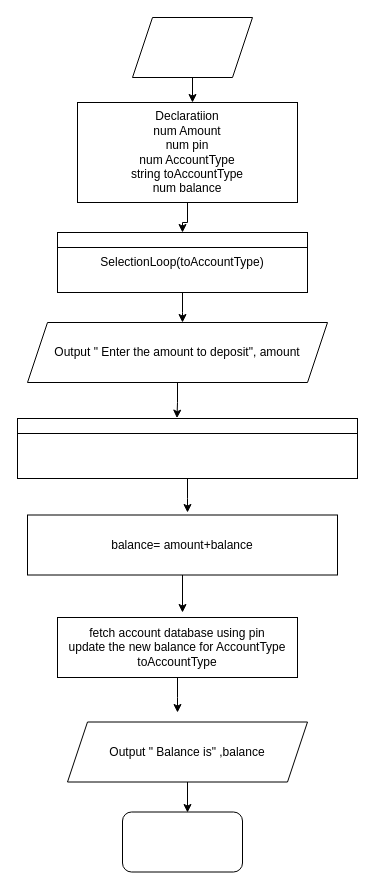
Image size: 376x890. Some labels were removed from this diagram. Each missing label, with the box of its shape:
balance=GetBalance(Pin:Num,toAccountType): (16, 418, 358, 478)
Deposit: (132, 16, 252, 78)
End: (122, 811, 242, 872)
